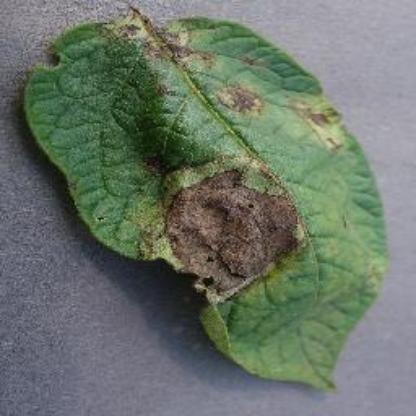Late-Blight: (21, 5, 394, 390)
